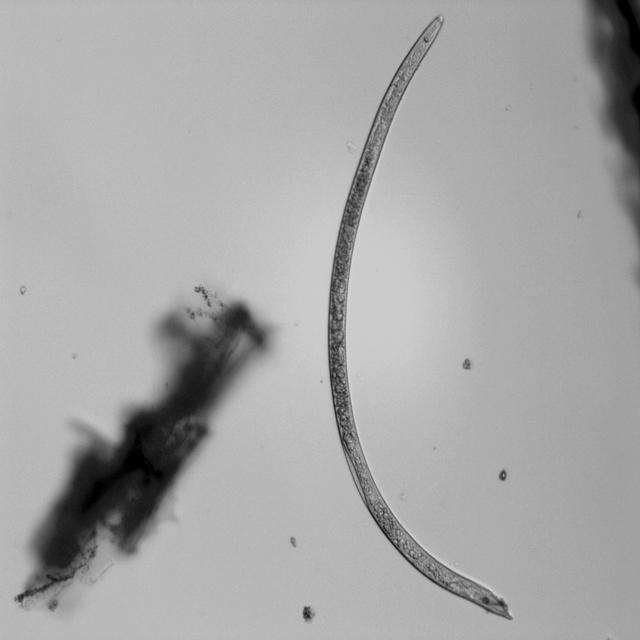Helicotylenchus: (316, 13, 523, 629)
